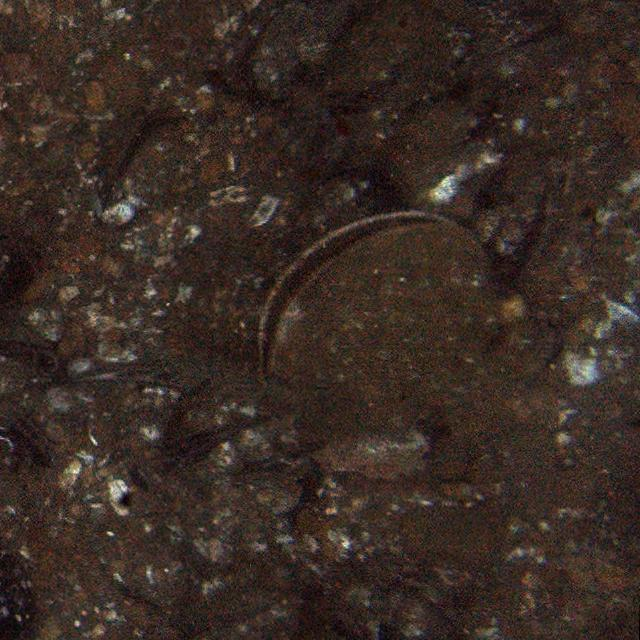scallop: (246, 198, 501, 426)
